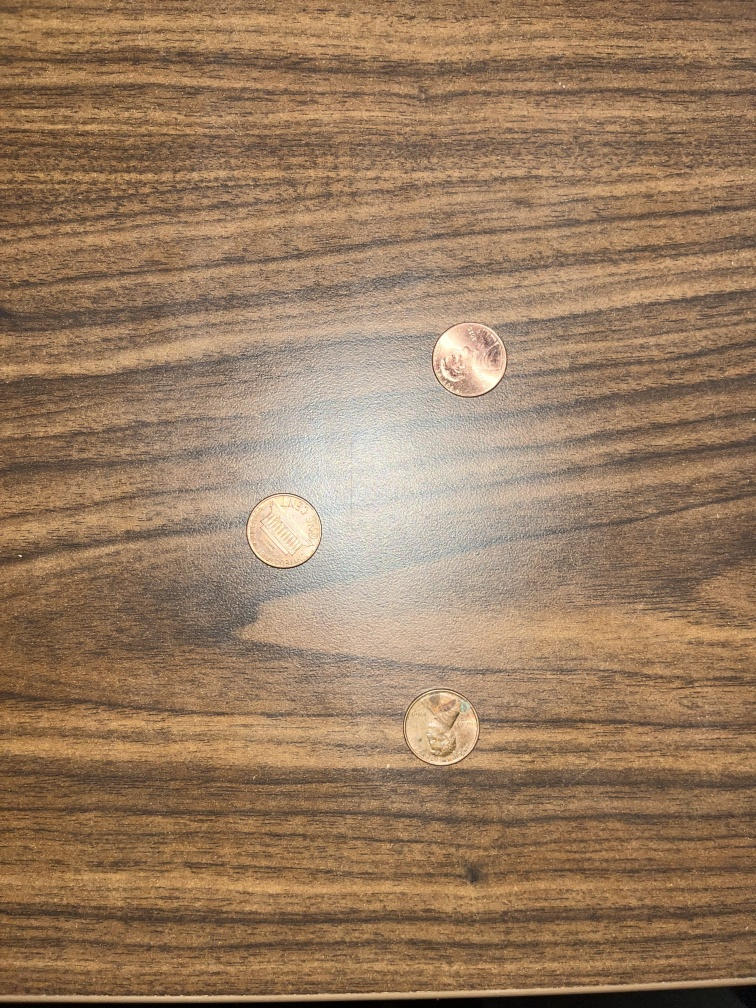penny: (240, 489, 329, 574), (428, 316, 512, 404), (398, 686, 484, 771)
